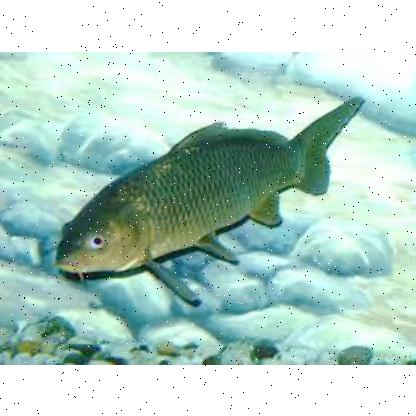ikan-mas: (52, 92, 366, 282)
